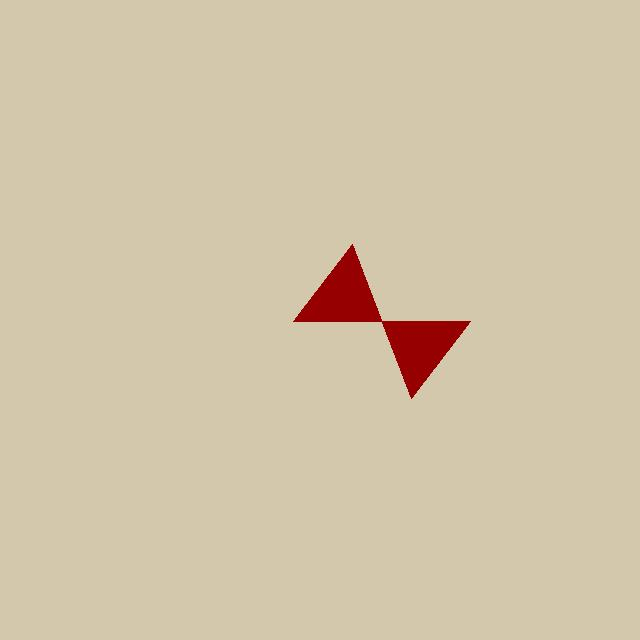laceration: (293, 244, 470, 398)
